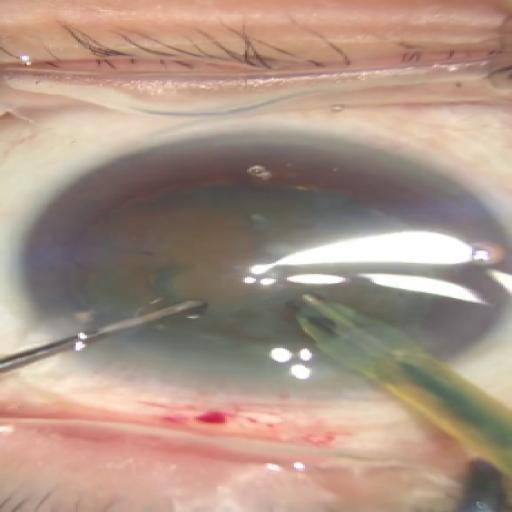catarata: (89, 192, 395, 362)
cornea: (22, 121, 505, 395)
pupil: (29, 184, 411, 366)
